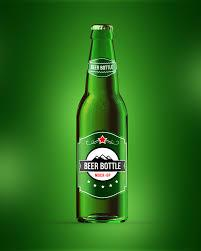Glass bottle: (68, 13, 136, 229)
